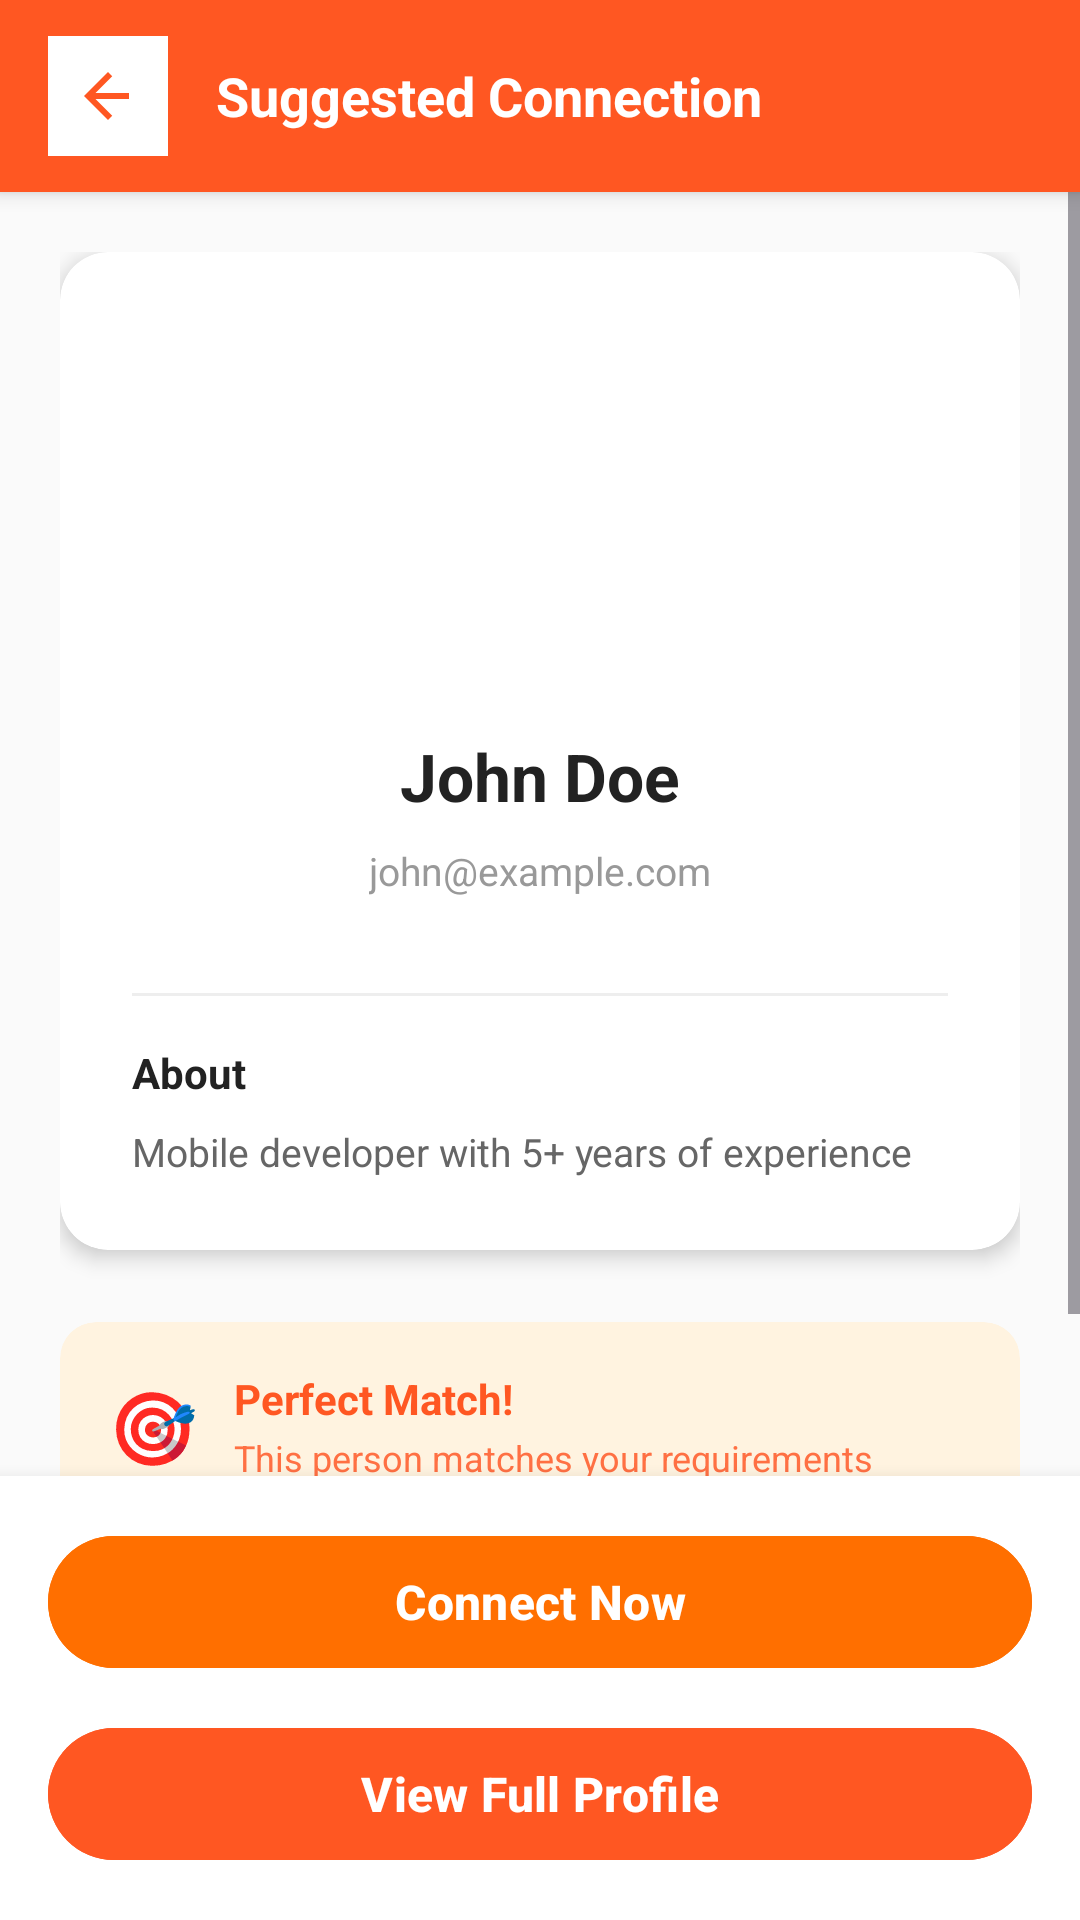

Point at icon controls on the screen. Image size 1080w x 1920h, points as point (x, y).
Back: point (108, 96)
